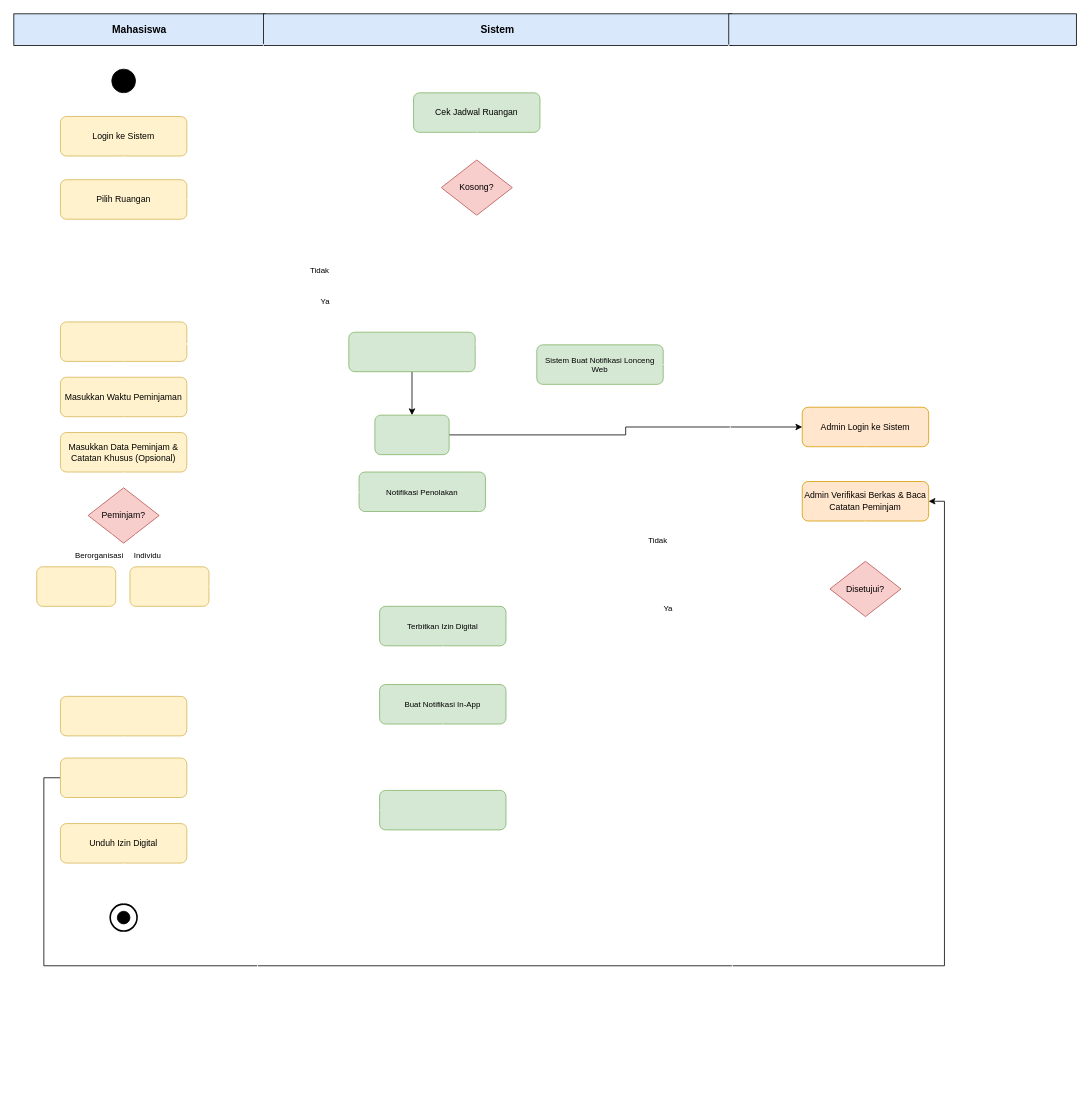
Image size: 1090x1112. Some labels were removed from this diagram. Each missing label, with the box of its shape:
Admin: (728, 13, 1076, 45)
Ajukan Kembali: (60, 757, 187, 798)
Kirim WhatsApp via Fonnte API: (379, 790, 506, 830)
Klik Pinjam: (60, 321, 187, 361)
Perbaikan Berkas/Data: (60, 696, 187, 736)
Simpan Pengajuan: (348, 331, 475, 372)
Sistem Kirim Alert WA Instan ke Admin: (374, 414, 449, 455)
Upload NIPD: (129, 566, 209, 606)
Upload NIPD & SP: (36, 566, 116, 606)
